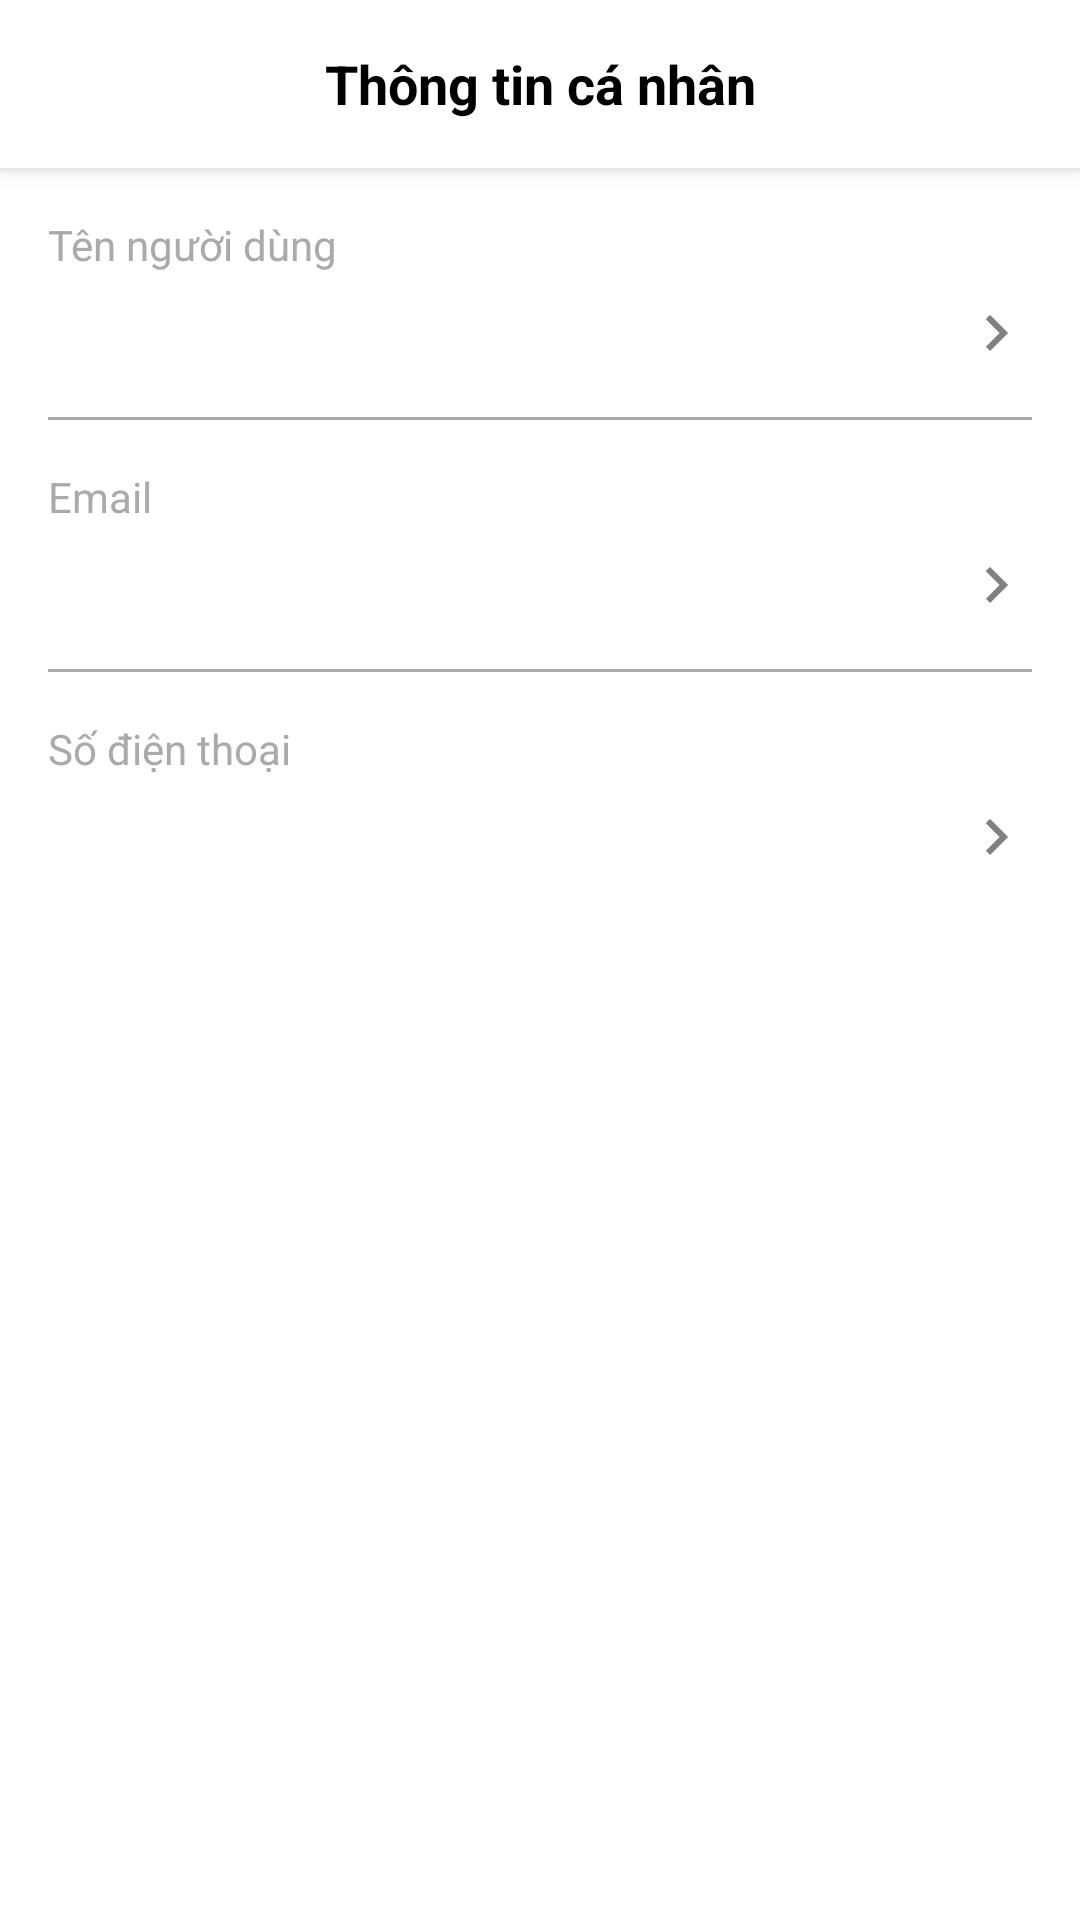

Where to tap for icons on this 1080x1920 app screen, as point (x, y):
arrow right: point (997, 333), point (997, 585), point (997, 837)
